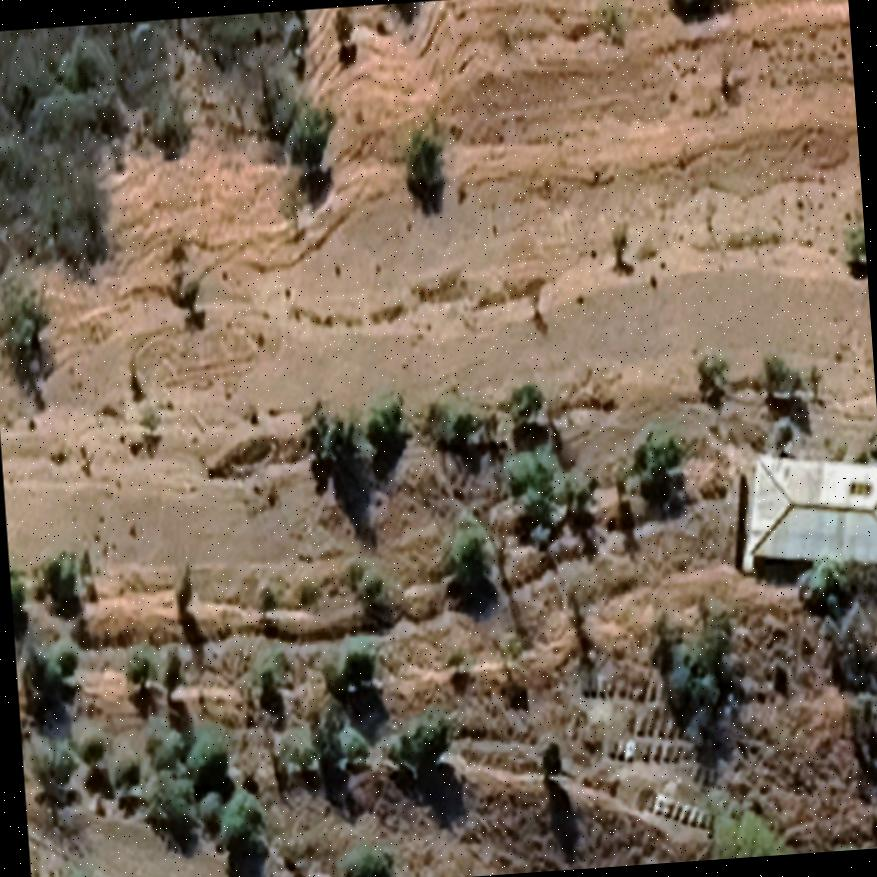Solarpanel: (844, 476, 876, 500)
